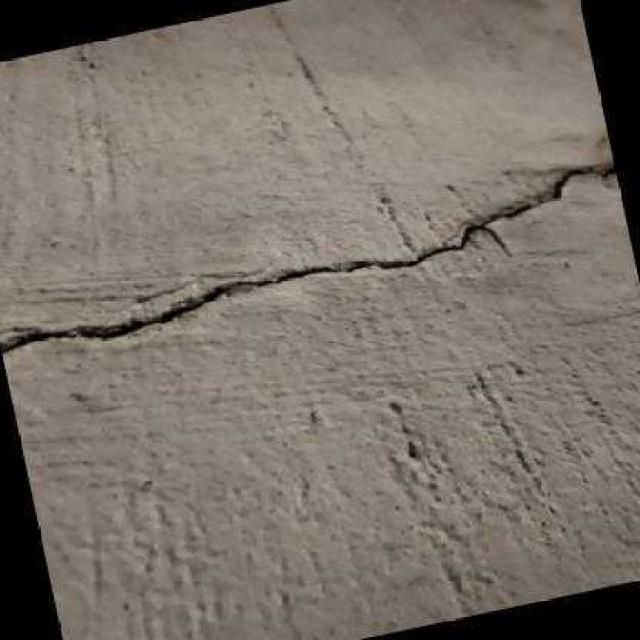D00: (1, 163, 616, 354)
